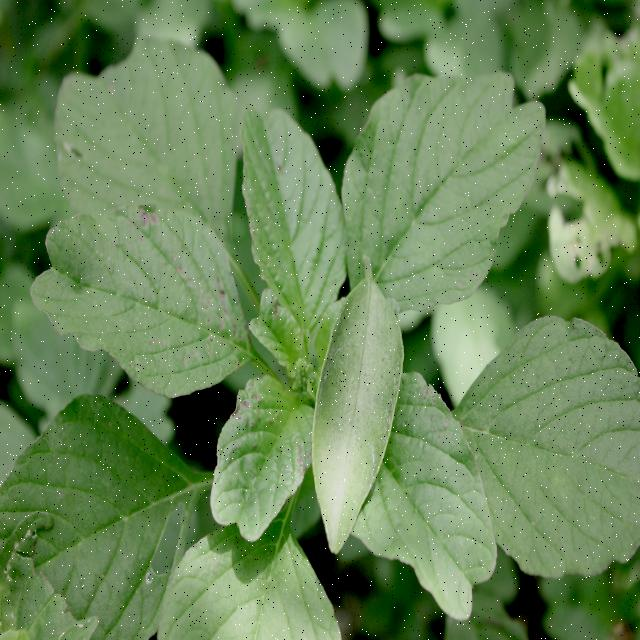blackspot: (328, 318, 396, 529)
